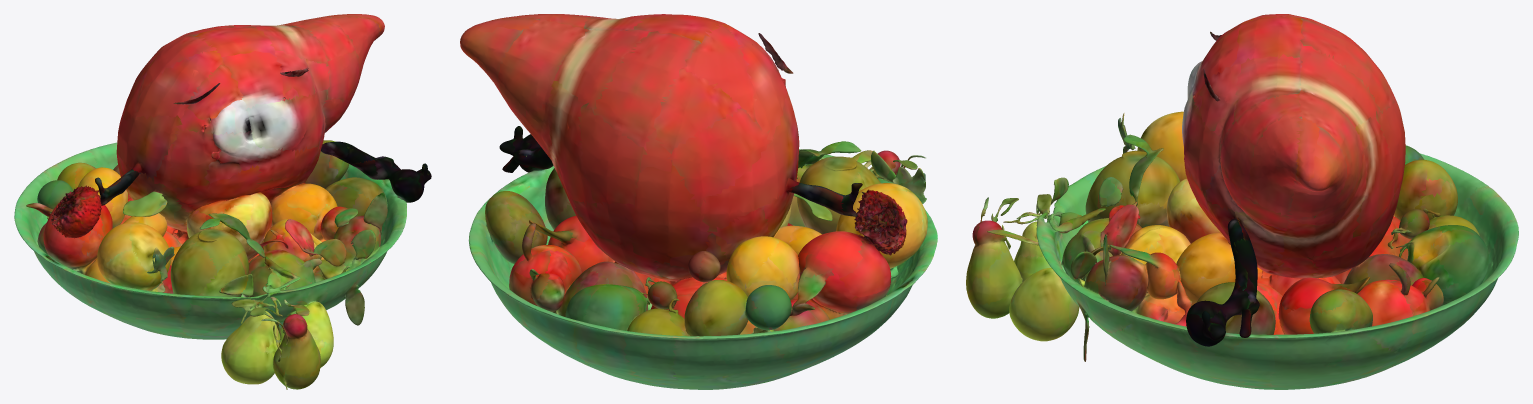
The model's file is healty-liver.glb.
3 renders of one model, left to right at view 1: azimuth 30°, elevation 25°; view 2: azimuth 150°, elevation 25°; view 3: azimuth 270°, elevation 25°, orthographic. The views are drawn at different scales.
Parts seen in each view (by area): view 1: HealtyLiver; view 2: HealtyLiver; view 3: HealtyLiver.
Part boxes in pixels (x1=…): HealtyLiver: x1=14, y1=14, x2=431, y2=389; HealtyLiver: x1=460, y1=14, x2=937, y2=389; HealtyLiver: x1=966, y1=14, x2=1518, y2=389.
Bounding box in the file's own units: 0.1858 × 0.132 × 0.1995.
1 material, 1 textured.
